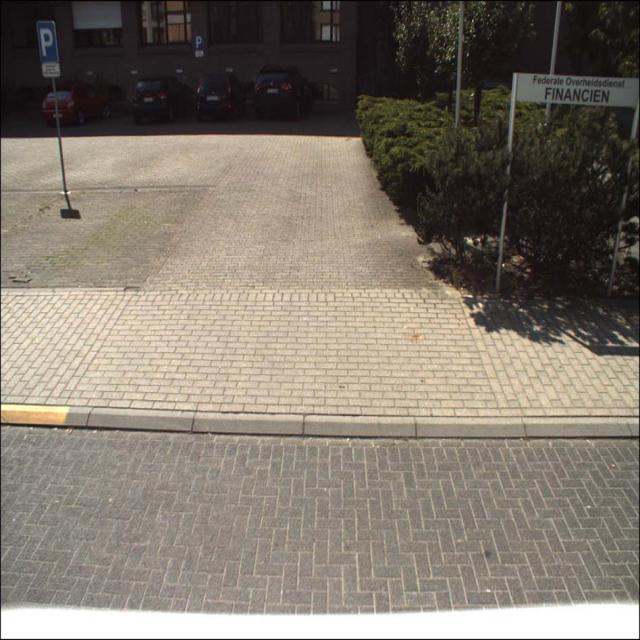park: (36, 21, 59, 63), (194, 36, 203, 50)
